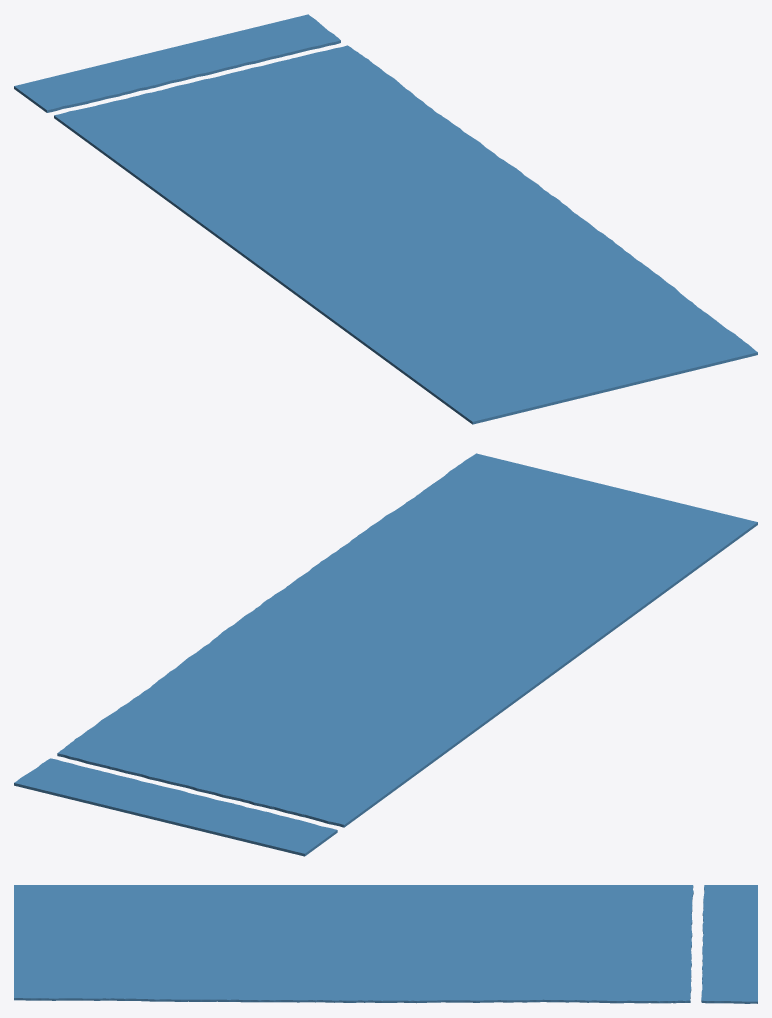
Rendered from sea.glb.
3 renders of one model, top to bottom at view 1: azimuth 30°, elevation 25°; view 2: azimuth 150°, elevation 25°; view 3: azimuth 270°, elevation 25°, orthographic. The views are drawn at different scales.
Visible parts, largest first — view 1: world; view 2: world; view 3: world.
Boxes of the visible parts, box(x1,y1,x2,y2) form: world: box(14, 14, 757, 424); world: box(14, 453, 757, 856); world: box(14, 885, 757, 1003).
Bounding box in the file's own units: 111 × 1 × 300.
